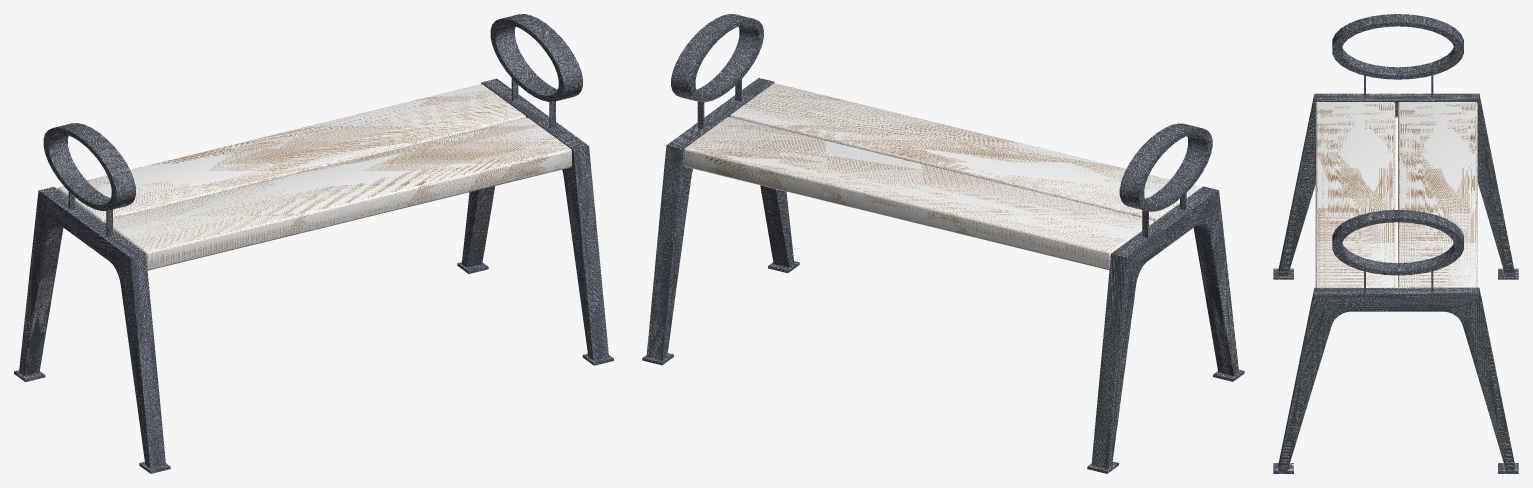
3 views of the same model, side by side, from view 1: azimuth 30°, elevation 25°; view 2: azimuth 150°, elevation 25°; view 3: azimuth 270°, elevation 25° (orthographic). The views are drawn at different scales.
Visible parts, largest first — view 1: mesh11_mesh11-geometry, mesh10_mesh10-geometry, mesh12_mesh12-geometry, mesh1_mesh1-geometry, mesh13_mesh13-geometry, mesh14_mesh14-geometry; view 2: mesh10_mesh10-geometry, mesh11_mesh11-geometry, mesh12_mesh12-geometry, mesh1_mesh1-geometry, mesh14_mesh14-geometry, mesh13_mesh13-geometry; view 3: mesh11_mesh11-geometry, mesh10_mesh10-geometry, mesh1_mesh1-geometry, mesh12_mesh12-geometry, mesh13_mesh13-geometry, mesh14_mesh14-geometry.
Boxes of the visible parts, bbox=[...] form: mesh11_mesh11-geometry: bbox=[103, 117, 571, 270]; mesh10_mesh10-geometry: bbox=[57, 84, 526, 222]; mesh12_mesh12-geometry: bbox=[19, 187, 165, 468]; mesh1_mesh1-geometry: bbox=[461, 78, 608, 360]; mesh13_mesh13-geometry: bbox=[43, 123, 135, 210]; mesh14_mesh14-geometry: bbox=[490, 14, 582, 101]; mesh10_mesh10-geometry: bbox=[683, 117, 1153, 270]; mesh11_mesh11-geometry: bbox=[729, 83, 1199, 221]; mesh12_mesh12-geometry: bbox=[1091, 186, 1238, 468]; mesh1_mesh1-geometry: bbox=[646, 78, 794, 360]; mesh14_mesh14-geometry: bbox=[671, 14, 763, 102]; mesh13_mesh13-geometry: bbox=[1119, 123, 1212, 211]; mesh11_mesh11-geometry: bbox=[1315, 102, 1395, 287]; mesh10_mesh10-geometry: bbox=[1398, 102, 1477, 287]; mesh1_mesh1-geometry: bbox=[1278, 287, 1514, 470]; mesh12_mesh12-geometry: bbox=[1278, 93, 1514, 276]; mesh13_mesh13-geometry: bbox=[1332, 14, 1463, 79]; mesh14_mesh14-geometry: bbox=[1332, 210, 1463, 275].
Bounding box in the file's own units: 0.7902 × 0.4629 × 0.4016.
